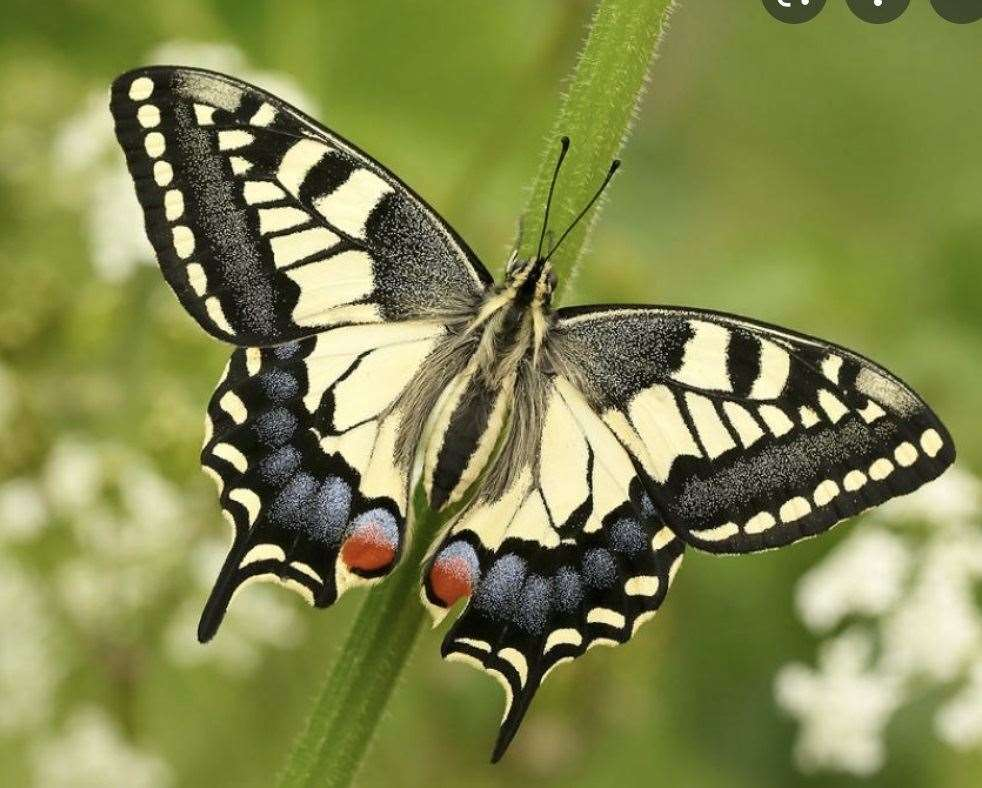Butterfly: (109, 62, 959, 779)
